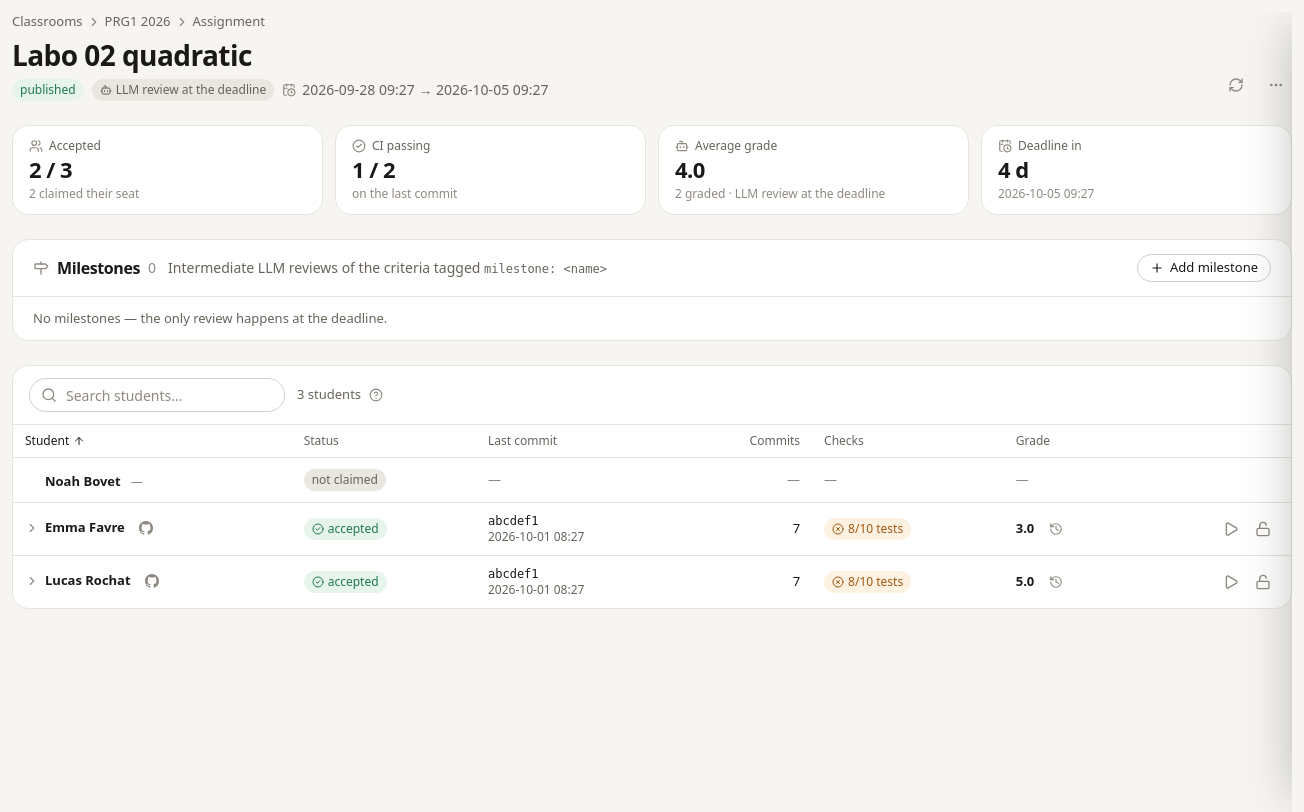
Test: AssignmentDetail row actions › reports a failed lock through a toast and leaves the padlock on its state
Expected: the table is shown, [13,425,1291,608]
Expected: the row that starts with "Lucas Rochat" is shown, [13,555,1291,608]
Click the button named "Lock repository (block pushes)" in the row of "Lucas Rochat".
click(1263, 582)  # box [1247,566,1279,598]
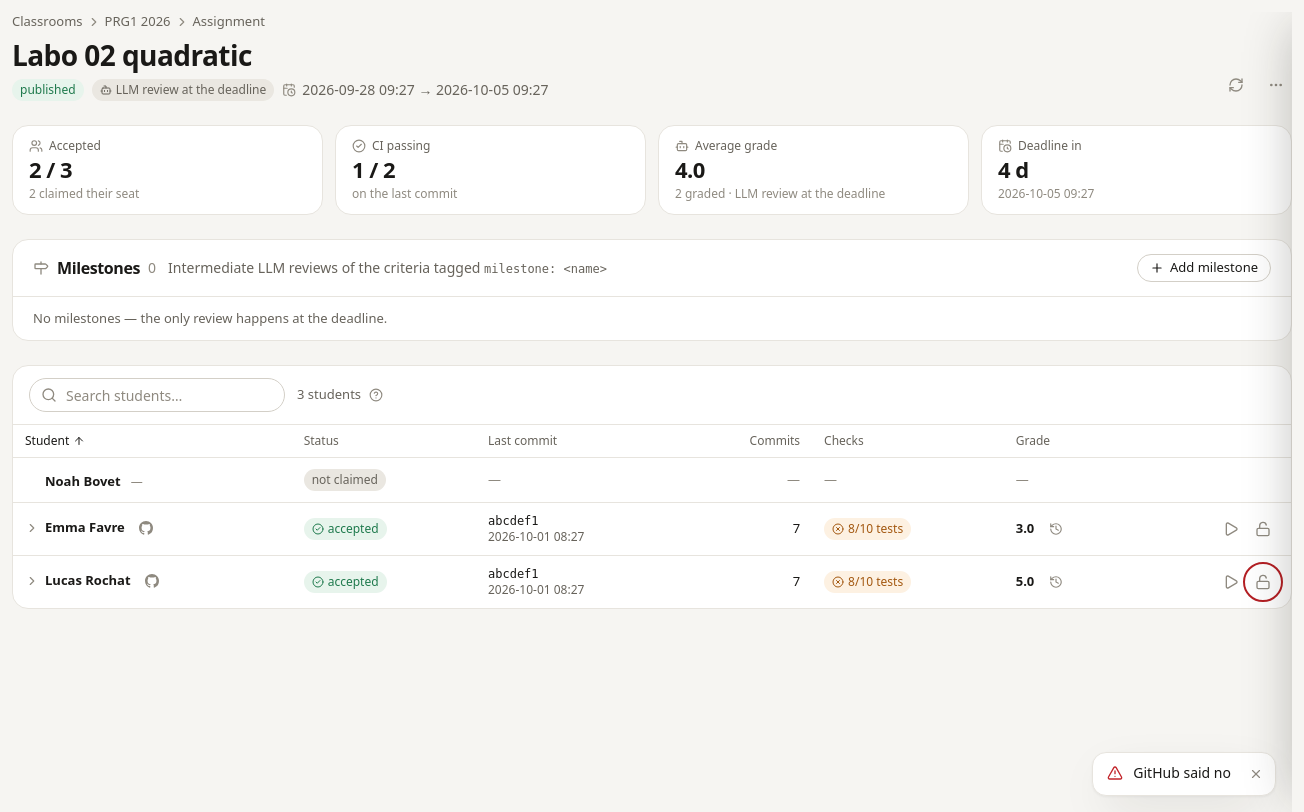
Result: the text "GitHub said no" is shown at [1133,763,1231,783]
